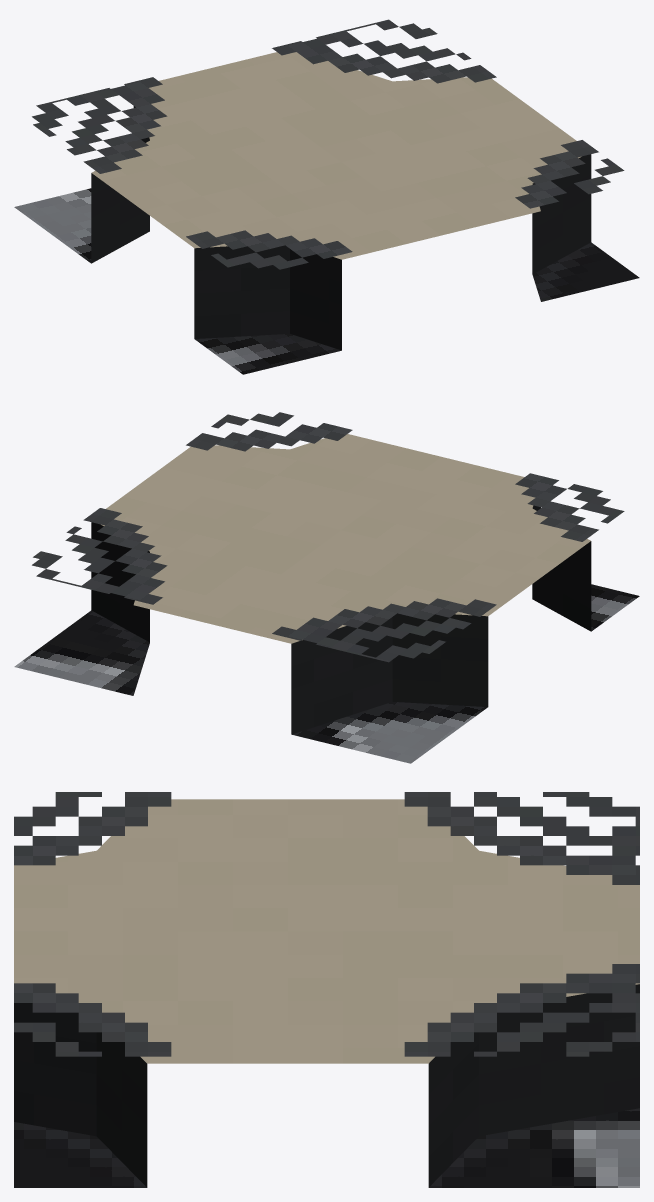
The model's file is rtu_large_x0_y1_z3.obj.
The picture shows the model from 3 angles, top to bottom: view 1: azimuth 30°, elevation 25°; view 2: azimuth 150°, elevation 25°; view 3: azimuth 270°, elevation 25°; orthographic projection. The views are drawn at different scales.
Parts seen in each view (by area): view 1: unit; view 2: unit; view 3: unit.
Boxes of the visible parts, x1,y1,x2,y2 form: unit: [14, 19, 639, 374]; unit: [14, 412, 639, 763]; unit: [14, 792, 639, 1187].
Size of the model in its own units: 1 by 0.2312 by 1.
